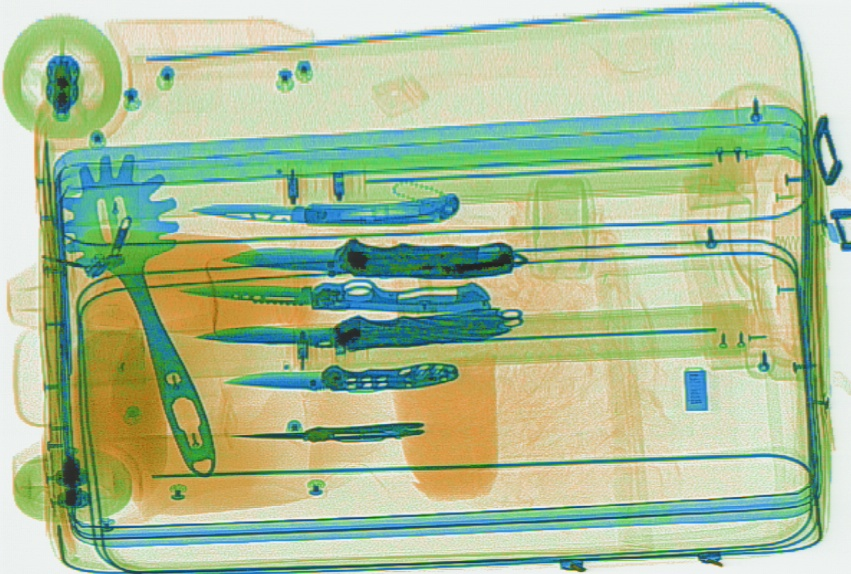knife: (176, 270, 487, 316), (219, 236, 523, 282), (196, 306, 523, 347), (185, 190, 458, 228), (223, 363, 458, 394), (229, 422, 423, 441)
